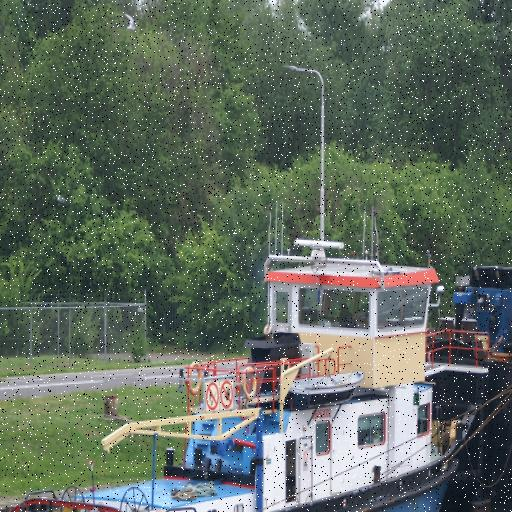tugboat: (1, 200, 503, 512)
